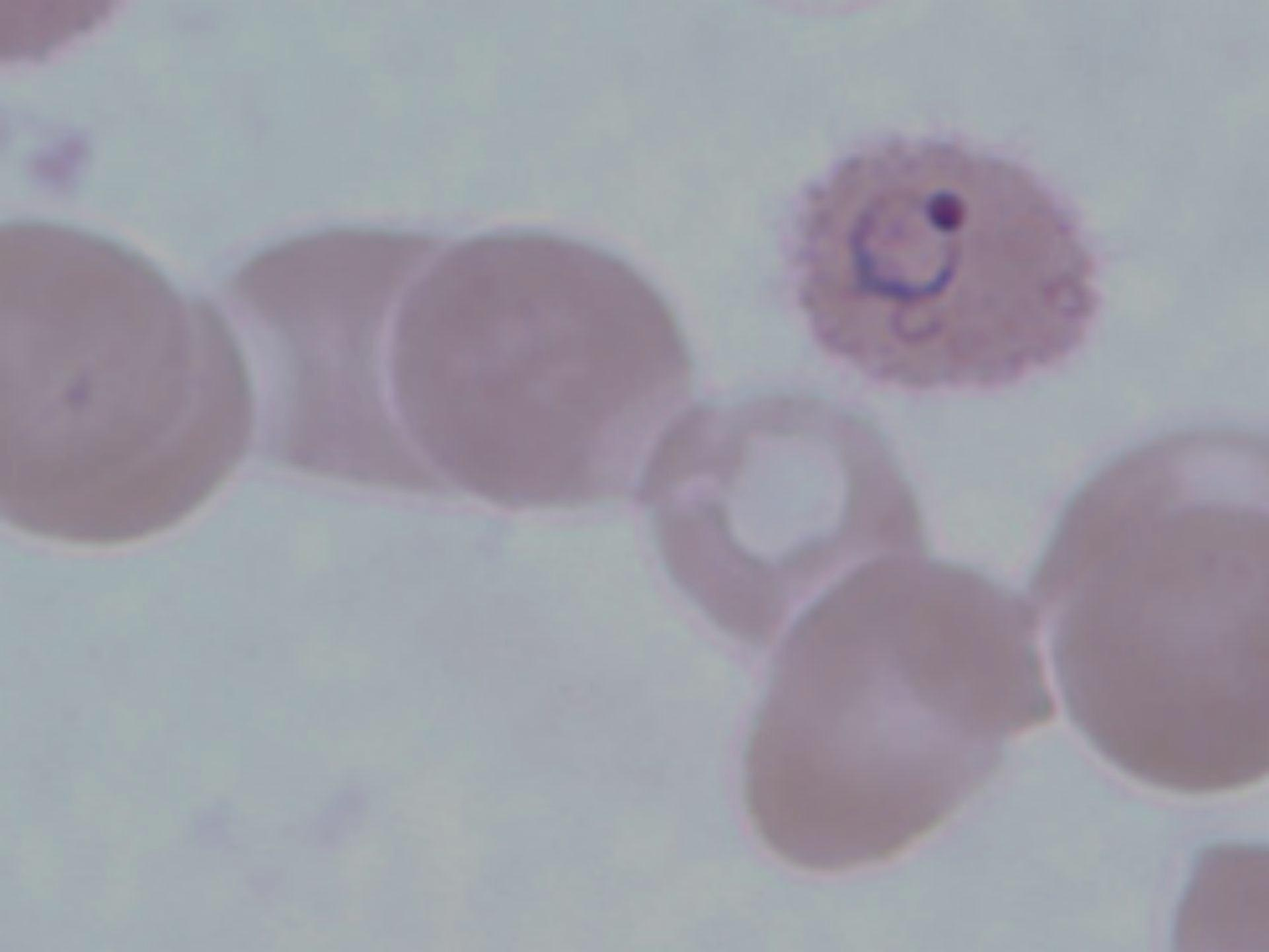Infected: (790, 146, 1095, 390)
Uninfected: (740, 561, 1050, 872), (387, 227, 696, 510), (1041, 425, 1269, 794), (236, 230, 490, 505), (646, 399, 918, 653), (0, 223, 204, 509)
